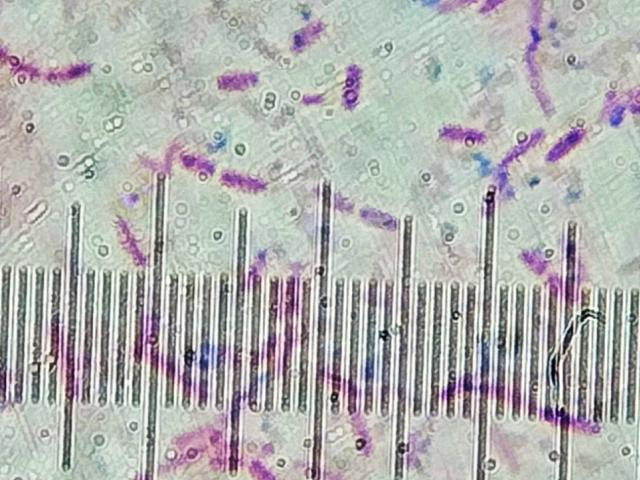E. coli: (433, 113, 487, 149), (111, 207, 142, 261), (501, 123, 538, 168), (518, 50, 542, 117), (288, 16, 330, 54), (208, 65, 259, 95), (345, 406, 378, 451), (48, 57, 92, 88), (493, 426, 524, 469), (552, 119, 589, 155), (338, 62, 363, 112), (0, 41, 32, 76), (219, 163, 257, 192), (181, 149, 216, 179), (531, 0, 557, 39), (248, 443, 275, 478), (548, 270, 584, 296), (319, 180, 347, 208), (208, 436, 264, 450), (516, 239, 543, 266), (368, 202, 393, 231), (178, 422, 216, 439), (242, 460, 269, 479), (474, 0, 499, 19), (168, 450, 192, 469)
